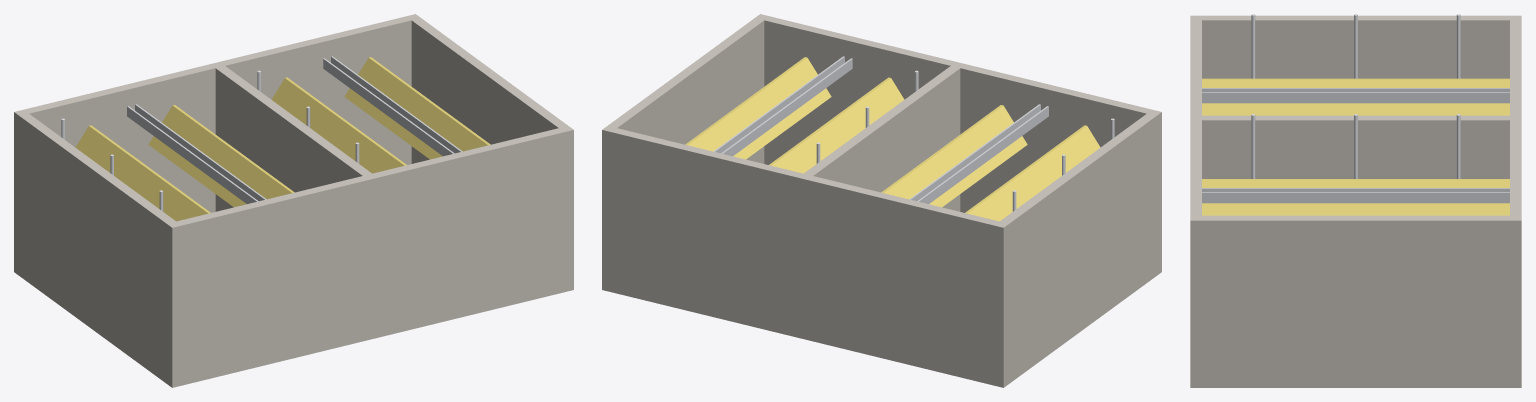
3 renders of one model, left to right at view 1: azimuth 30°, elevation 25°; view 2: azimuth 150°, elevation 25°; view 3: azimuth 270°, elevation 25°, orthographic. The views are drawn at different scales.
Visible parts, largest first — view 1: saneamiento_reactor__uasb__cuerpo, saneamiento_reactor__uasb__separadores, saneamiento_reactor__uasb__canaletas, saneamiento_reactor__uasb__entradas; view 2: saneamiento_reactor__uasb__cuerpo, saneamiento_reactor__uasb__separadores, saneamiento_reactor__uasb__canaletas, saneamiento_reactor__uasb__entradas; view 3: saneamiento_reactor__uasb__cuerpo, saneamiento_reactor__uasb__separadores, saneamiento_reactor__uasb__canaletas, saneamiento_reactor__uasb__entradas.
Part boxes in pixels (left/top/right/bottom): saneamiento_reactor__uasb__cuerpo: left=14, top=14, right=573, bottom=387; saneamiento_reactor__uasb__separadores: left=75, top=57, right=490, bottom=221; saneamiento_reactor__uasb__canaletas: left=127, top=56, right=462, bottom=203; saneamiento_reactor__uasb__entradas: left=61, top=70, right=359, bottom=211; saneamiento_reactor__uasb__cuerpo: left=602, top=14, right=1161, bottom=387; saneamiento_reactor__uasb__separadores: left=685, top=57, right=1100, bottom=221; saneamiento_reactor__uasb__canaletas: left=713, top=56, right=1048, bottom=203; saneamiento_reactor__uasb__entradas: left=816, top=70, right=1114, bottom=211; saneamiento_reactor__uasb__cuerpo: left=1190, top=15, right=1521, bottom=387; saneamiento_reactor__uasb__separadores: left=1202, top=78, right=1509, bottom=215; saneamiento_reactor__uasb__canaletas: left=1202, top=88, right=1509, bottom=203; saneamiento_reactor__uasb__entradas: left=1251, top=14, right=1460, bottom=178.
Size of the model in its own units: 12.6 by 5.1 by 8.6.
